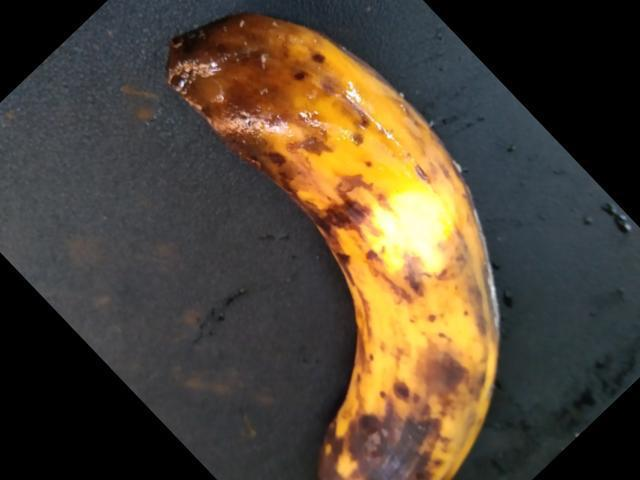rotten: (176, 20, 545, 479)
